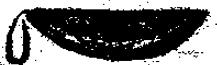Basket: (3, 9, 212, 65)
